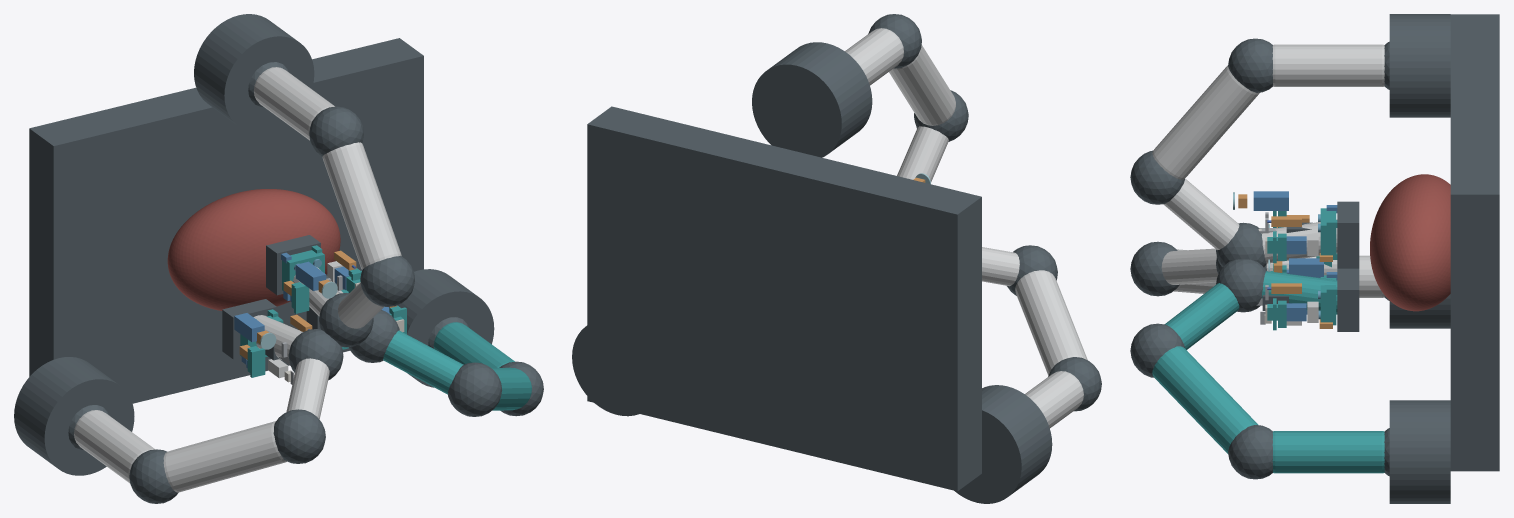
File: dranmar_oncosurgery_cell.glb
3 views of the same model, side by side, from view 1: azimuth 30°, elevation 25°; view 2: azimuth 150°, elevation 25°; view 3: azimuth 270°, elevation 25° (orthographic).
Parts seen in each view (by area): view 1: table, patient_liver, arm2_arm_base, arm0_arm_base, arm2_arm_link_1, arm0_arm_link_1, arm1_arm_base, arm2_arm_link_0, arm0_arm_link_0, arm1_arm_link_2, arm1_arm_joint_2, arm0_arm_joint_2 (+17 smaller); view 2: table, arm2_arm_base, arm0_arm_base, arm0_arm_link_1, arm2_arm_link_1, arm2_arm_link_0, arm0_arm_link_0, arm2_arm_link_2, arm2_arm_joint_1, arm0_arm_joint_1, arm0_arm_link_2, arm0_arm_joint_2 (+2 smaller); view 3: table, patient_liver, arm1_arm_base, arm2_arm_base, arm2_arm_link_1, arm2_arm_link_0, arm1_arm_link_0, arm1_arm_link_1, arm2_arm_link_2, arm1_arm_link_2, arm1_arm_joint_1, arm2_arm_joint_1 (+16 smaller).
Part boxes in pixels (x1,y1,x2,y2): table: (29,38,423,403); patient_liver: (167,189,340,310); arm2_arm_base: (194,14,314,132); arm0_arm_base: (14,357,134,475); arm2_arm_link_1: (322,142,401,269); arm0_arm_link_1: (163,421,286,492); arm1_arm_base: (397,269,494,387); arm2_arm_link_0: (254,67,334,140); arm0_arm_link_0: (74,410,155,483); arm1_arm_link_2: (383,330,463,394); arm1_arm_joint_2: (448,362,501,416); arm0_arm_joint_2: (273,409,325,463); table: (587,106,981,491); arm2_arm_base: (752,42,872,157); arm0_arm_base: (954,385,1052,503); arm0_arm_link_1: (1015,270,1087,375); arm2_arm_link_1: (889,45,955,125); arm2_arm_link_0: (845,28,903,85); arm0_arm_link_0: (1025,371,1083,428); arm2_arm_link_2: (897,126,948,181); arm2_arm_joint_1: (868,14,921,68); arm0_arm_joint_1: (1048,357,1101,411); arm0_arm_link_2: (982,247,1019,286); arm0_arm_joint_2: (1007,245,1057,295); table: (1450,14,1499,471); patient_liver: (1370,174,1450,311); arm1_arm_base: (1389,400,1450,503); arm2_arm_base: (1389,14,1450,117); arm2_arm_link_1: (1152,65,1259,179); arm2_arm_link_0: (1272,44,1384,86); arm1_arm_link_0: (1272,431,1384,473); arm1_arm_link_1: (1152,346,1258,453); arm2_arm_link_2: (1163,178,1239,249); arm1_arm_link_2: (1165,283,1239,349); arm1_arm_joint_1: (1228,425,1272,479); arm2_arm_joint_1: (1228,38,1272,92).
Size of the model in its own units: 0.85 by 0.71 by 0.605.
